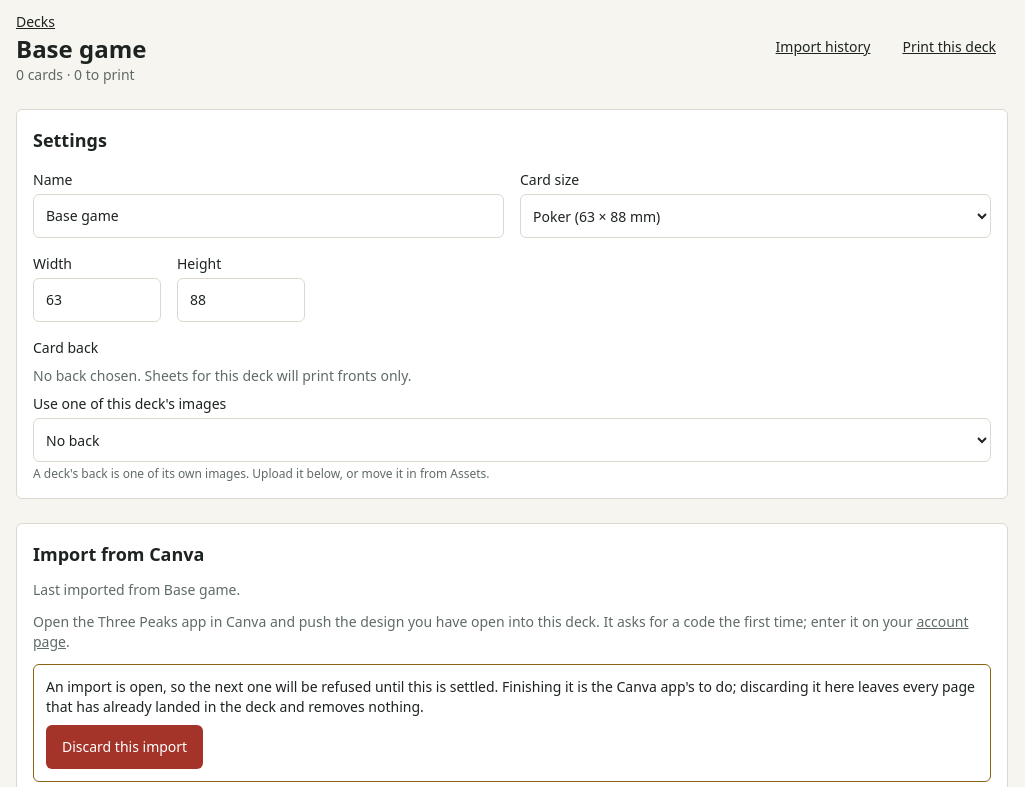
Deck editor › a run the Canva app left open › offers to discard it, and stops offering once it is discarded
Click the button "Discard this import".
click(125, 747)  # box [46, 725, 203, 769]
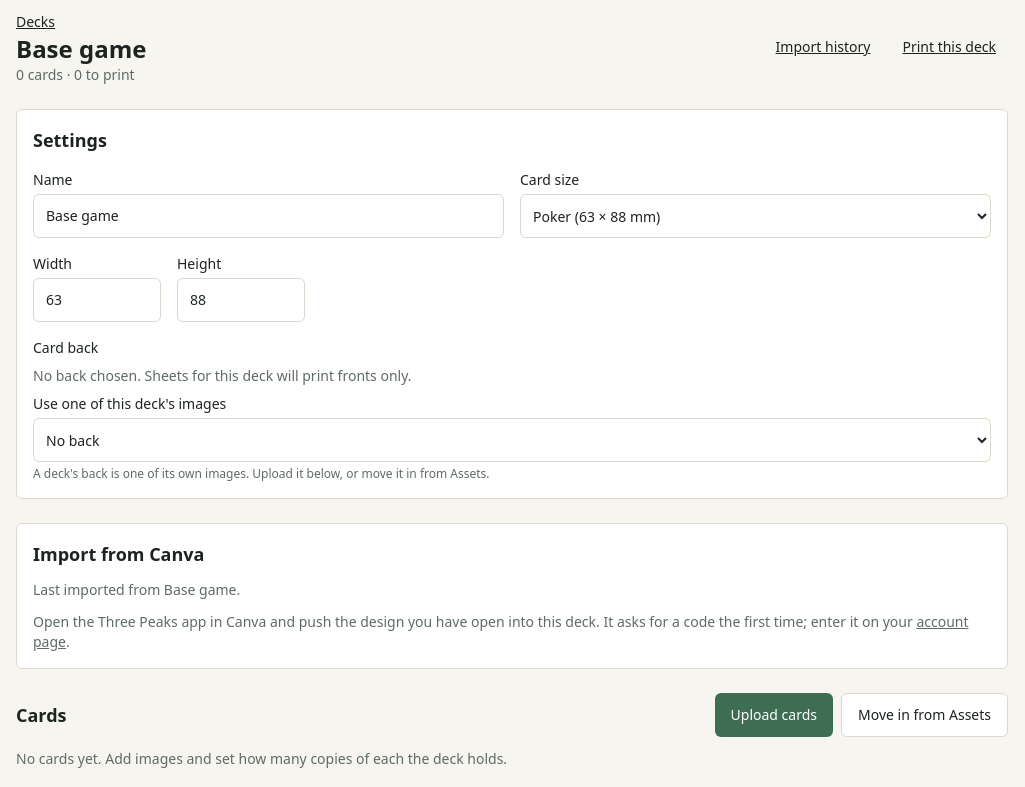
Result: the button "Discard this import" is gone
